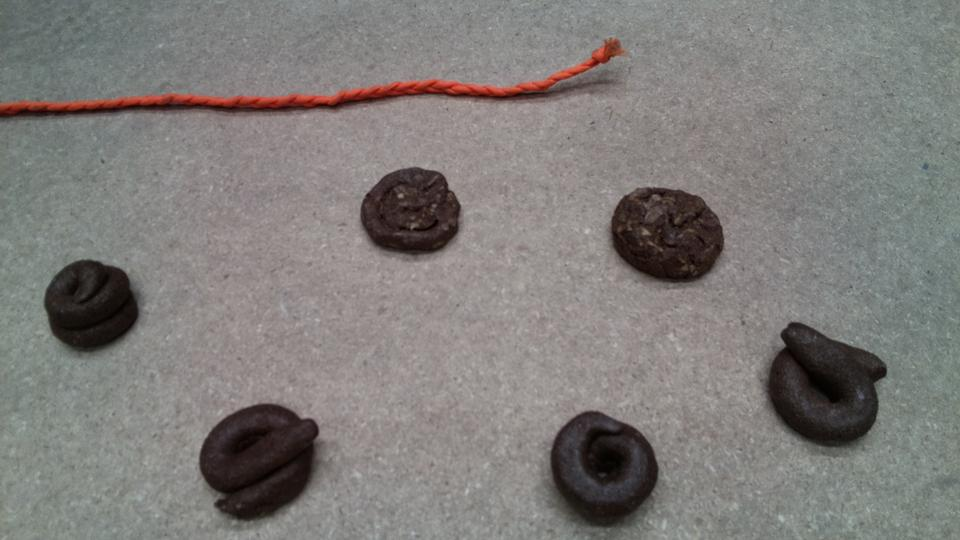poop: (195, 398, 324, 524), (765, 320, 891, 448), (548, 406, 662, 528), (608, 183, 728, 284), (41, 256, 144, 356), (359, 165, 466, 256)
rope: (1, 35, 627, 119)
